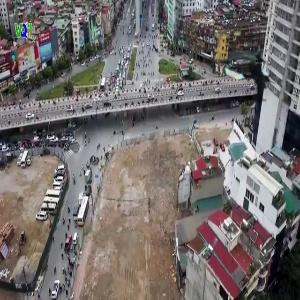drone: (216, 40, 285, 109)
